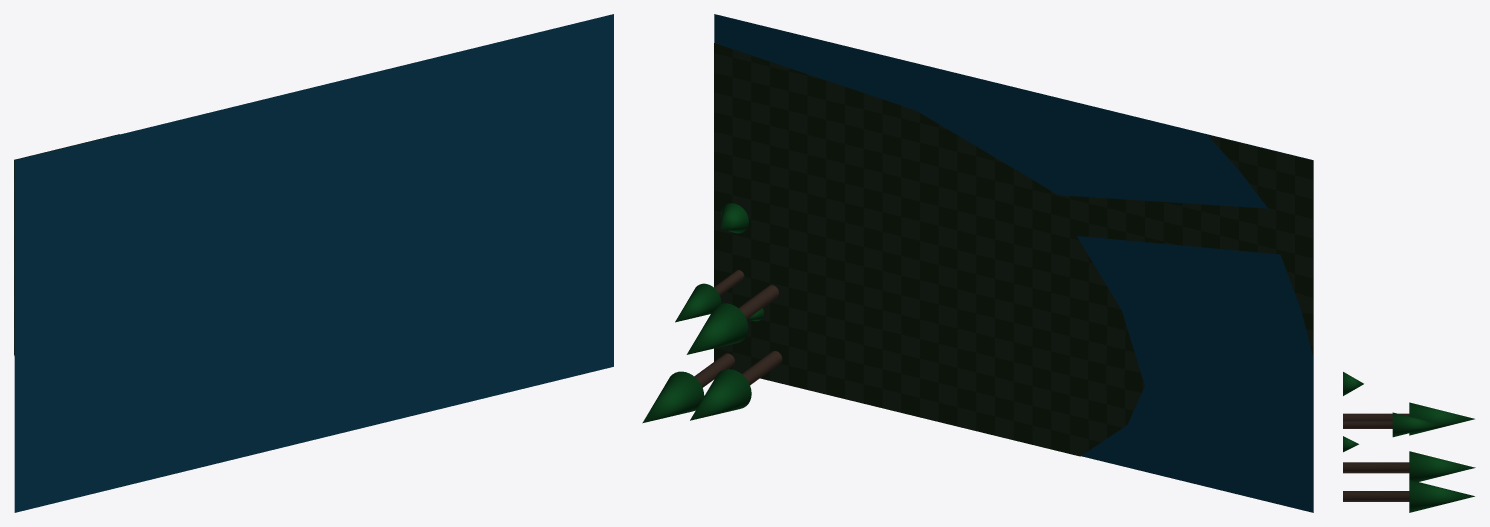
File: forest17.dae
The picture shows the model from 3 angles, left to right: view 1: azimuth 30°, elevation 25°; view 2: azimuth 150°, elevation 25°; view 3: azimuth 270°, elevation 25°; orthographic projection. The views are drawn at different scales.
Visible parts, largest first — view 1: Plane.041; view 2: Plane.034, Plane.041, Cone.2874, Cone.2878, Cone.2877, Cone.2879; view 3: Cone.2874, Cone.2877, Cone.2878, Cone.2879, Cone.2875.
Part boxes in pixels (x1=…): Plane.041: x1=14, y1=14, x2=613, y2=512; Plane.034: x1=714, y1=43, x2=1312, y2=456; Plane.041: x1=714, y1=14, x2=1313, y2=512; Cone.2874: x1=690, y1=351, x2=782, y2=420; Cone.2878: x1=686, y1=285, x2=778, y2=354; Cone.2877: x1=642, y1=353, x2=734, y2=423; Cone.2879: x1=675, y1=270, x2=744, y2=322; Cone.2874: x1=1343, y1=451, x2=1475, y2=481; Cone.2877: x1=1343, y1=480, x2=1474, y2=512; Cone.2878: x1=1343, y1=402, x2=1474, y2=435; Cone.2879: x1=1343, y1=412, x2=1441, y2=437; Cone.2875: x1=1343, y1=372, x2=1363, y2=395.
Size of the model in its own units: 64.4 by 16.1 by 36.9.
